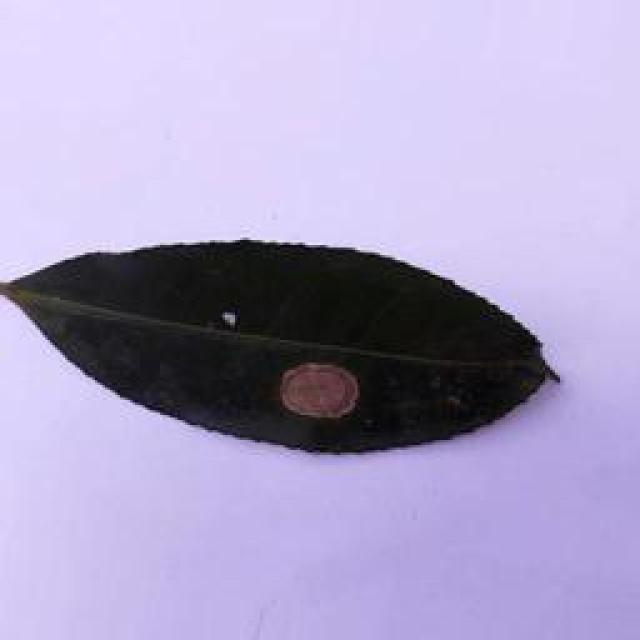Gray Blight: (0, 237, 558, 460)
